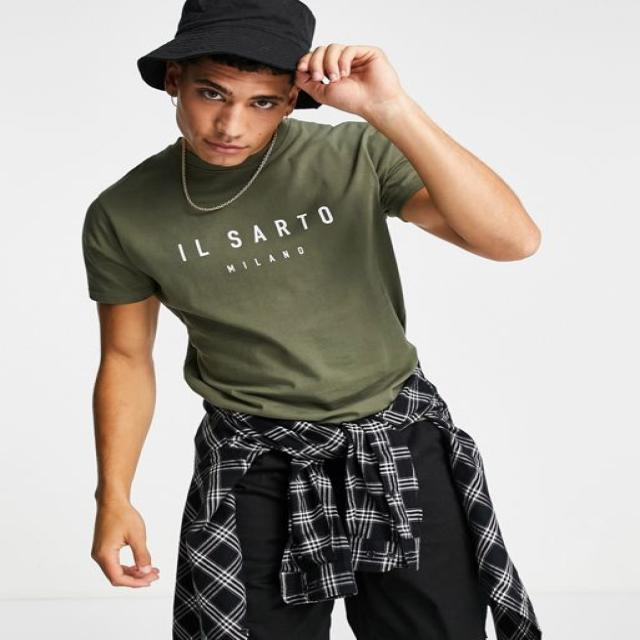tshirt: (79, 116, 432, 424)
